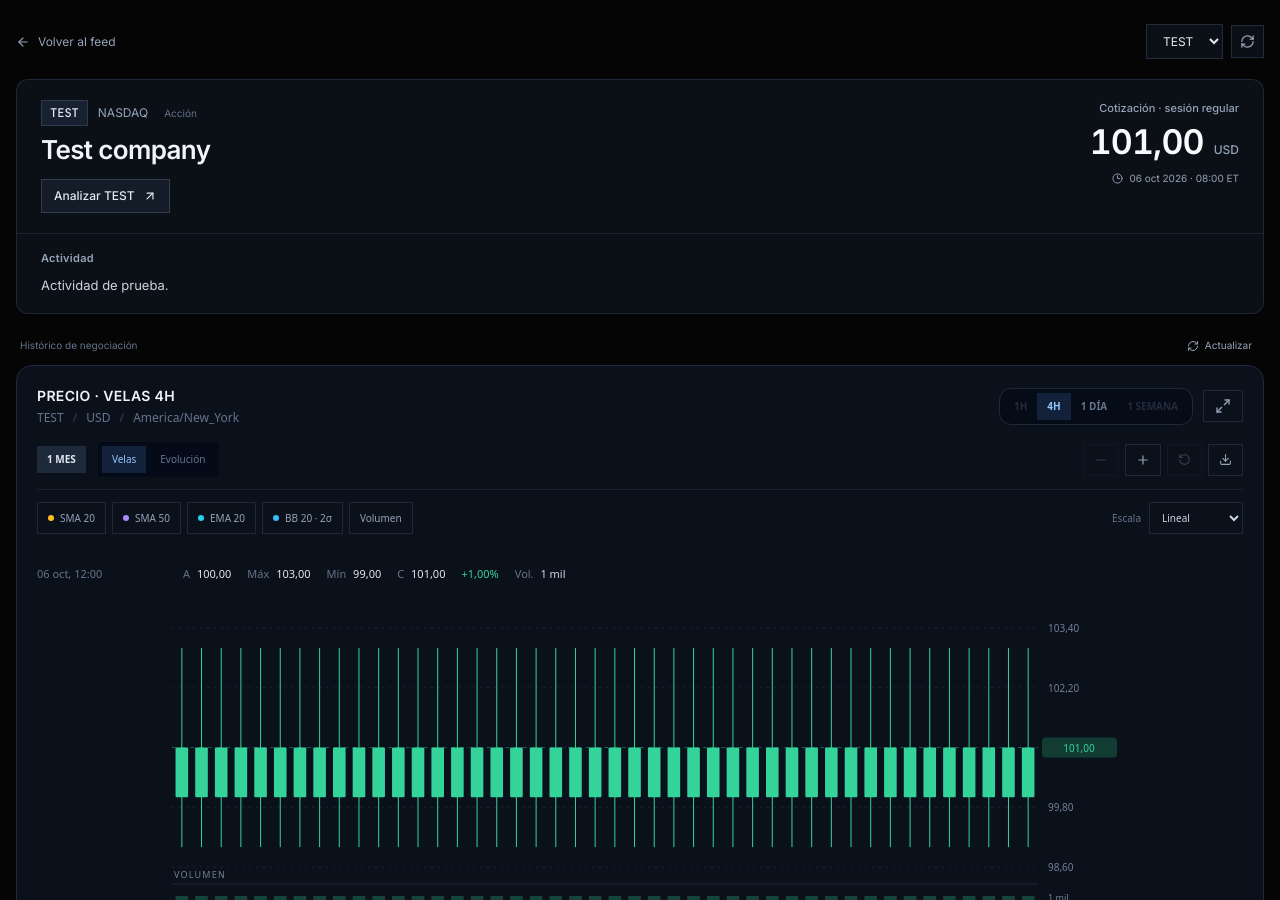
Scenario: shows four-hour OHLC candles and a genuine empty latest-news state
Expected: the heading "PRECIO · VELAS 4H" is shown, x1=37 y1=387 x2=175 y2=404
Expected: the text "Actividad de prueba." is shown, x1=41 y1=277 x2=169 y2=293
Click the button with aria-label "Velas 1 DÍA".
click(1094, 406)  # box x1=1071 y1=393 x2=1117 y2=420
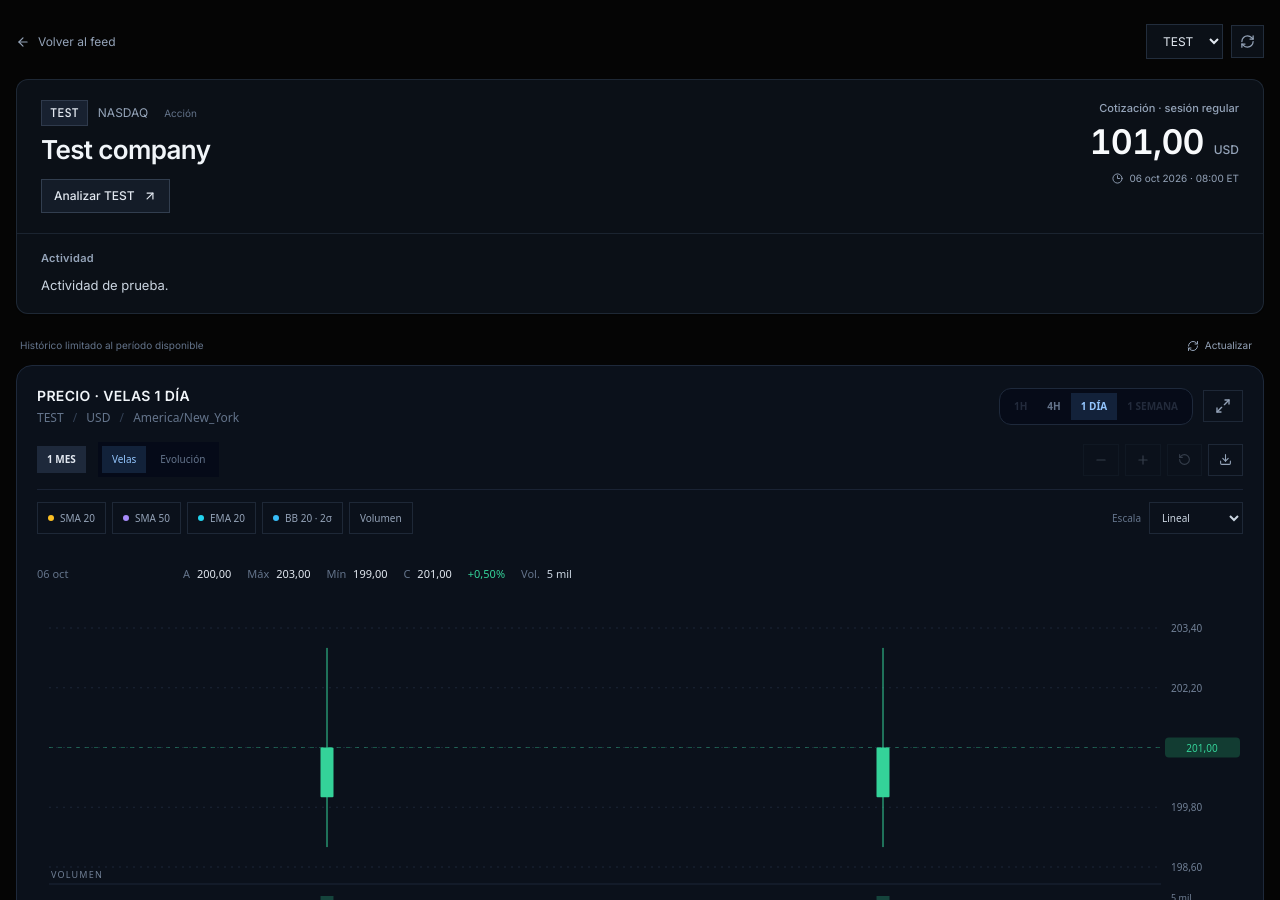
Expected: the text "200,00" is shown, x1=197 y1=566 x2=231 y2=581
Click the button named "Ampliar gráfico".
click(1223, 406)  # box x1=1203 y1=390 x2=1243 y2=422
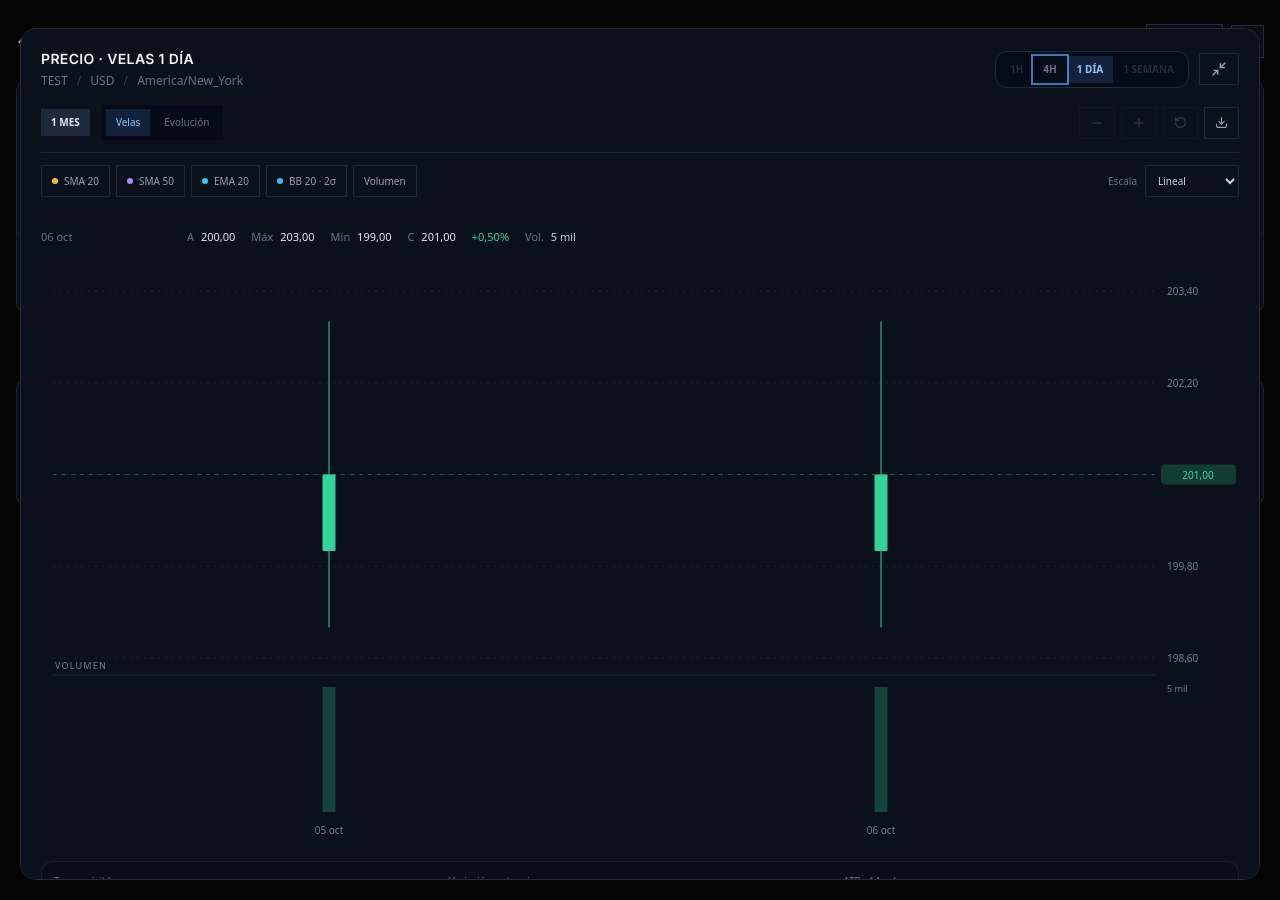
Expected: the button named "Reducir gráfico" is expanded, x1=1199 y1=53 x2=1239 y2=85
Press Escape
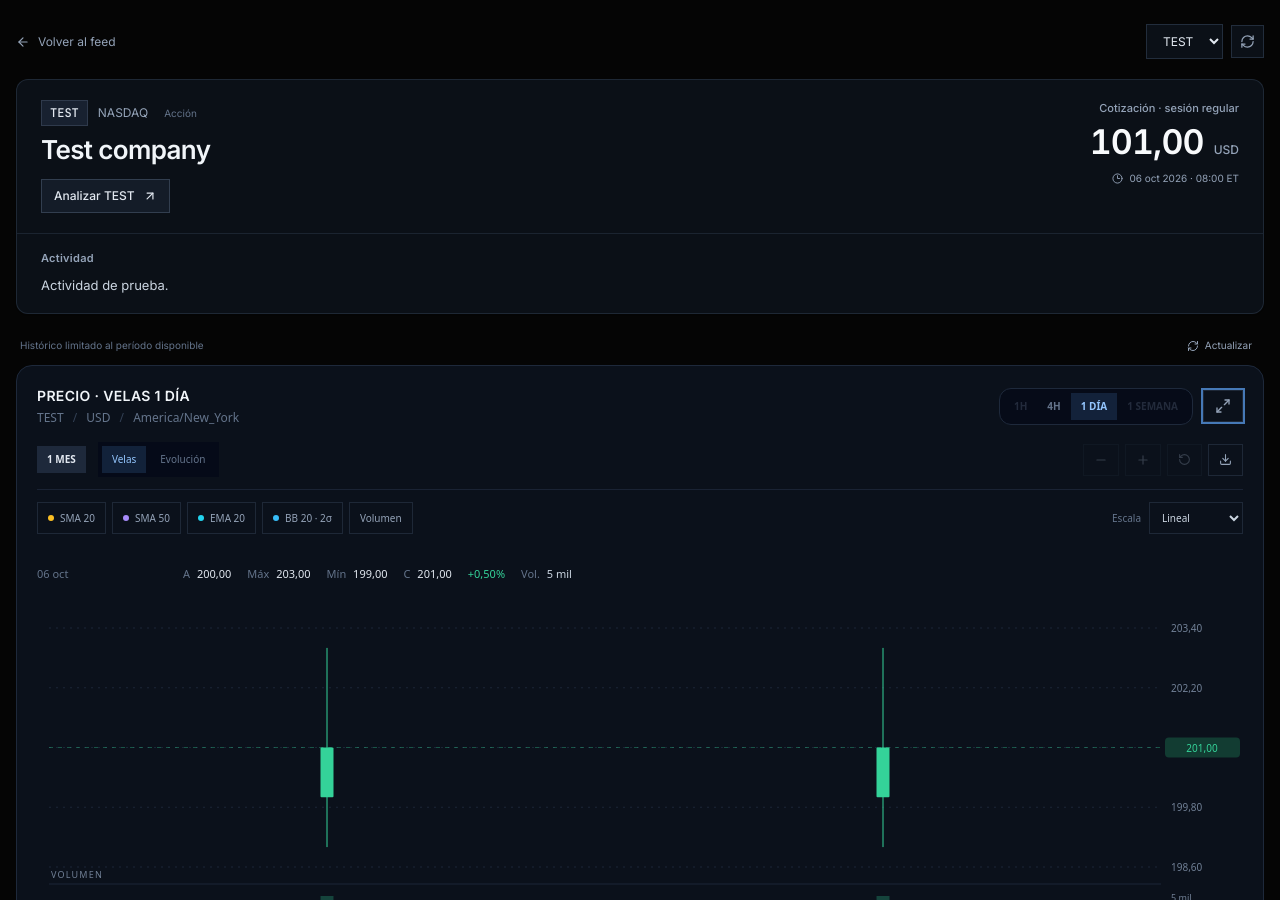
Expected: the button named "Velas 1H" is disabled, x1=1004 y1=393 x2=1037 y2=420
Expected: the button named "Ampliar gráfico" is collapsed, x1=1203 y1=390 x2=1243 y2=422
